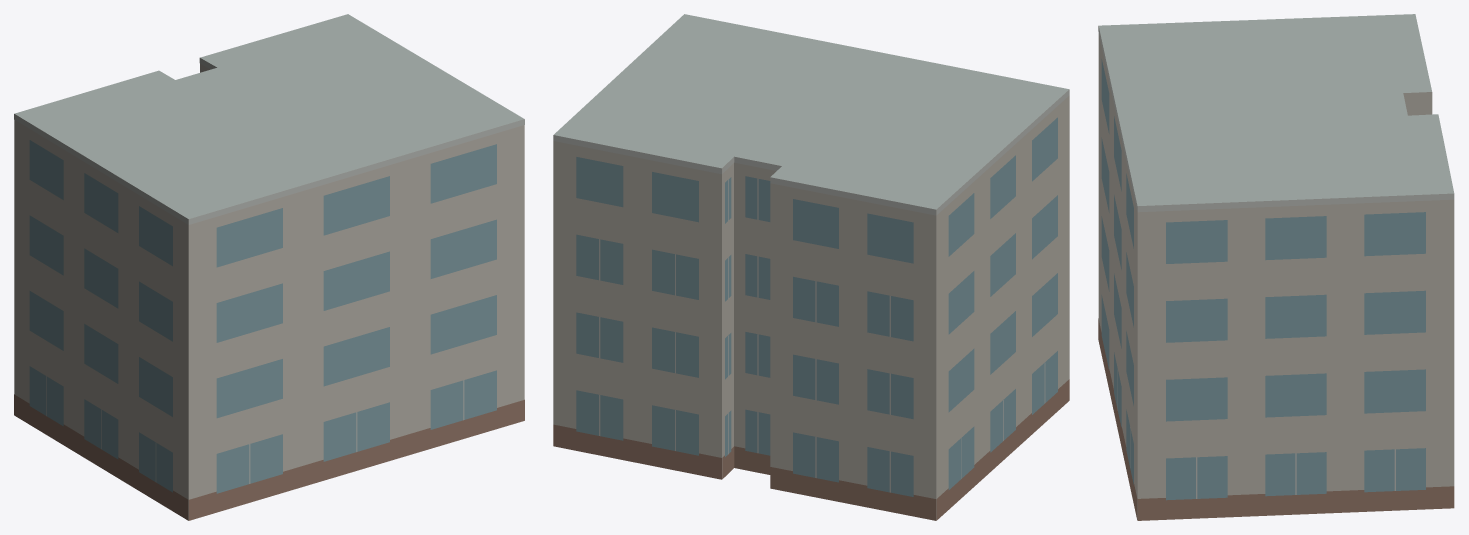
File: survey-upis-32740232.glb
3 renders of one model, left to right at view 1: azimuth 30°, elevation 25°; view 2: azimuth 150°, elevation 25°; view 3: azimuth 270°, elevation 25°, orthographic. The views are drawn at different scales.
Parts seen in each view (by area): view 1: survey-upis-32740232.tmp; view 2: survey-upis-32740232.tmp; view 3: survey-upis-32740232.tmp.
Boxes of the visible parts, x1,y1,x2,y2 form: survey-upis-32740232.tmp: (14, 14, 524, 520); survey-upis-32740232.tmp: (553, 14, 1069, 520); survey-upis-32740232.tmp: (1098, 14, 1454, 520).
Bounding box in the file's own units: 16.57 × 12.65 × 12.97.
